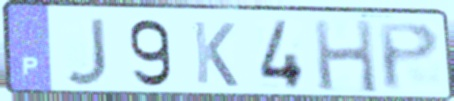4: (257, 18, 307, 93)
9: (127, 17, 174, 88)
H: (310, 17, 381, 96)
J: (62, 16, 111, 89)
K: (190, 19, 241, 90)
P: (374, 20, 444, 94)
